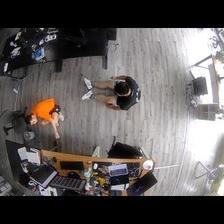fall: (79, 73, 142, 112), (26, 97, 65, 140)
